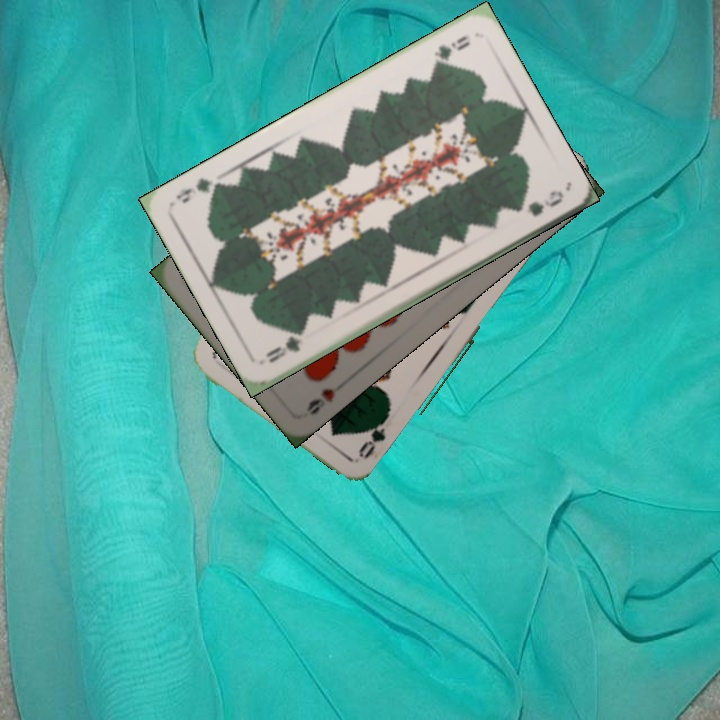G9: (427, 31, 473, 71), (261, 327, 307, 366)
GO: (354, 406, 393, 462)
H9: (302, 384, 338, 418)
